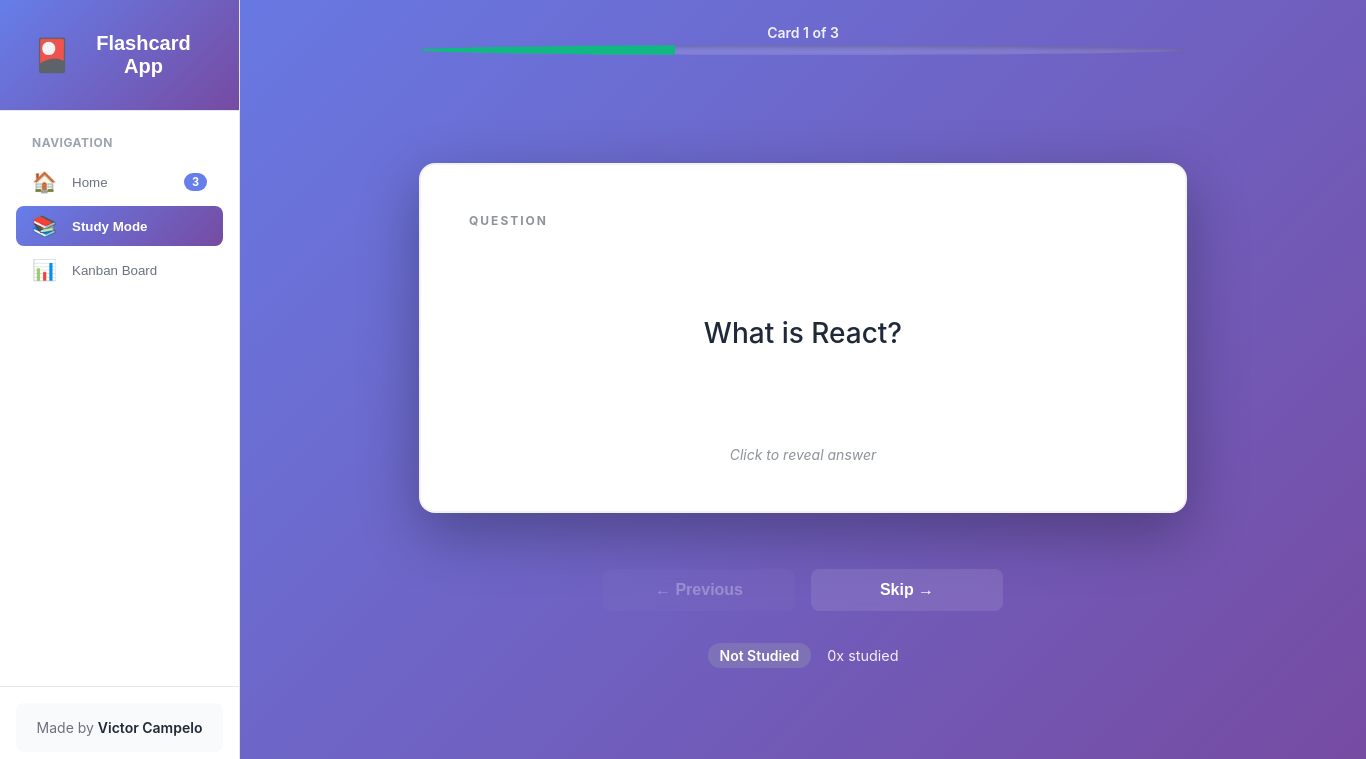
Test: Study › Error Handling › displays error when difficulty update fails
The width and height of the screenshot is (1366, 759).
expect the text "What is React?" is shown: met, box [704, 316, 902, 350]
// Flip card
Click the element with test id "study-card" at (803, 338), box [419, 163, 1187, 513]
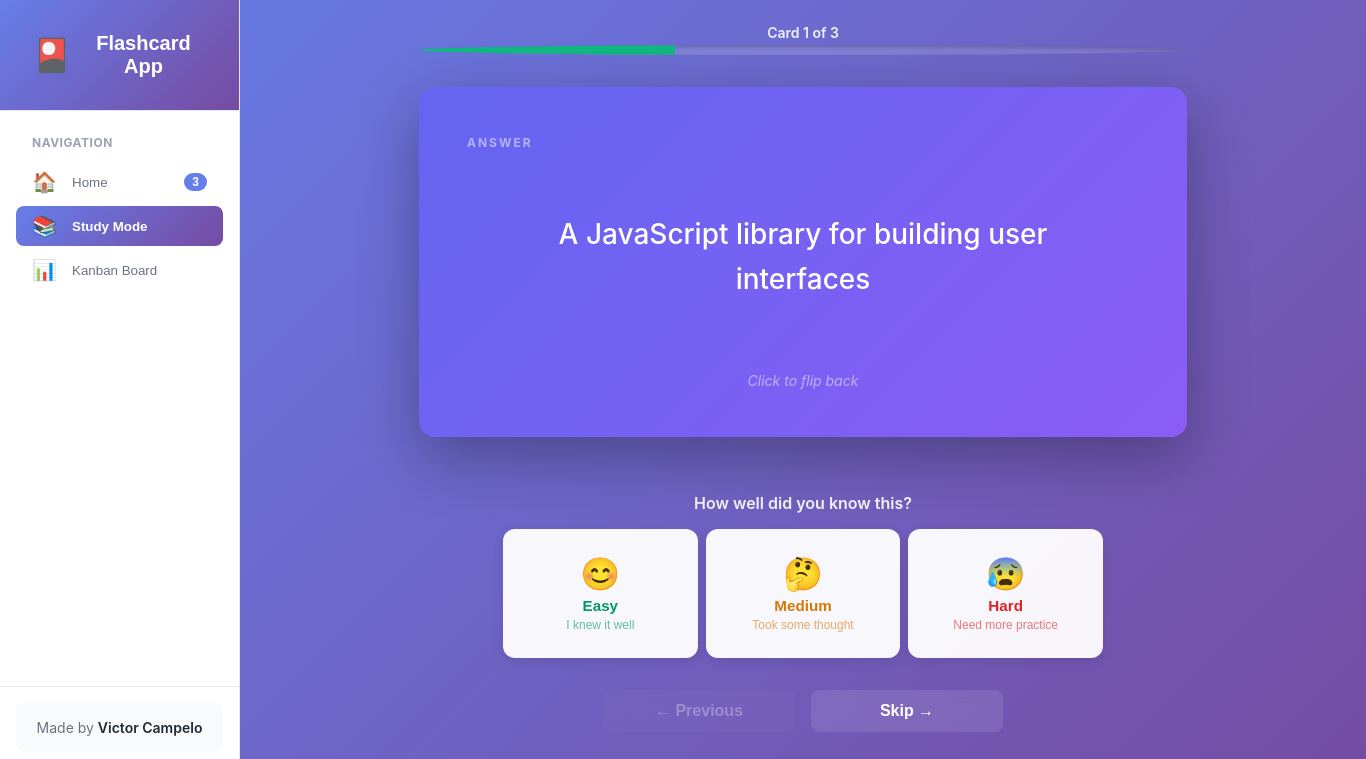
expect the element with test id "difficulty-buttons" is shown: met, box [503, 493, 1103, 658]
// Click difficulty button
Click the button with test id "btn-easy" at (600, 594), box [503, 529, 698, 658]
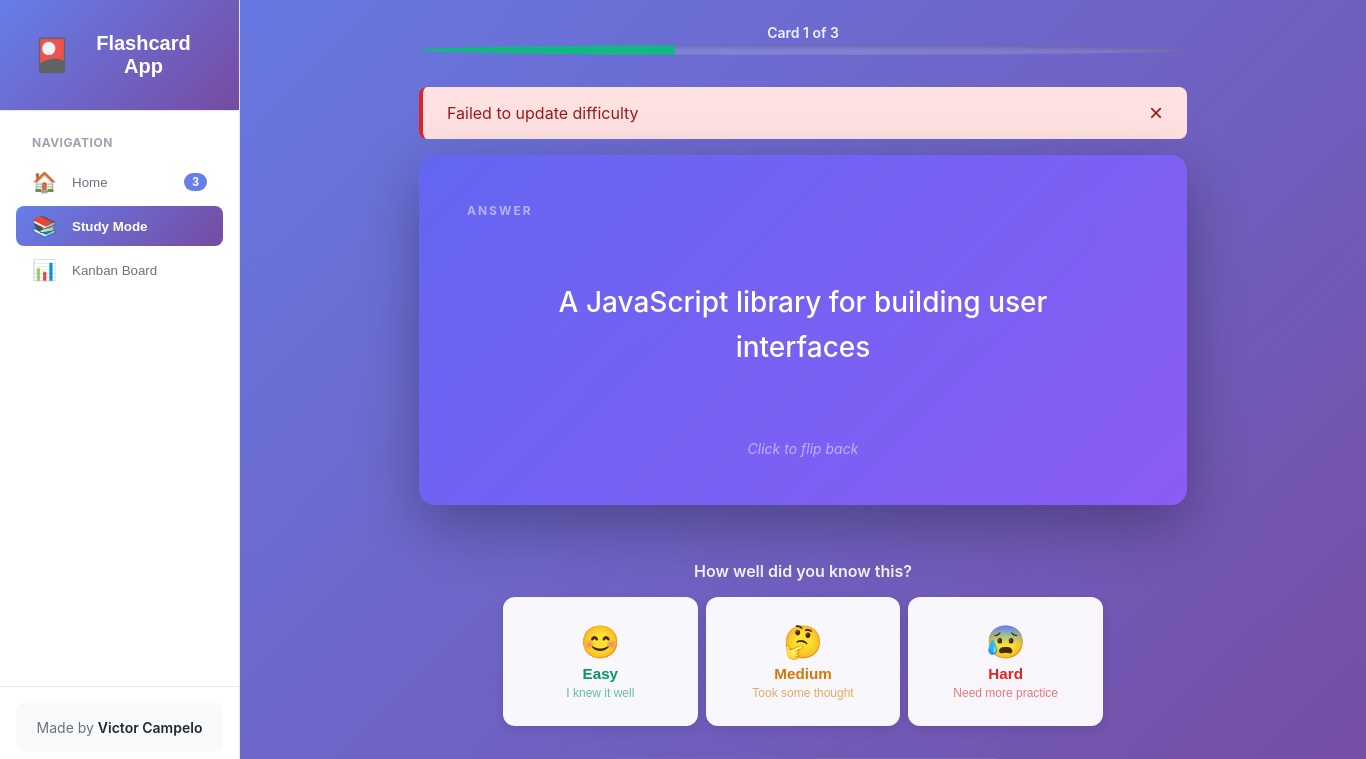
expect the text "Failed to update difficulty" is shown: met, box [447, 103, 638, 123]
